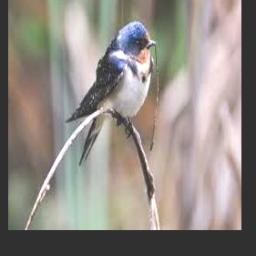Swallow: (66, 22, 157, 165)
